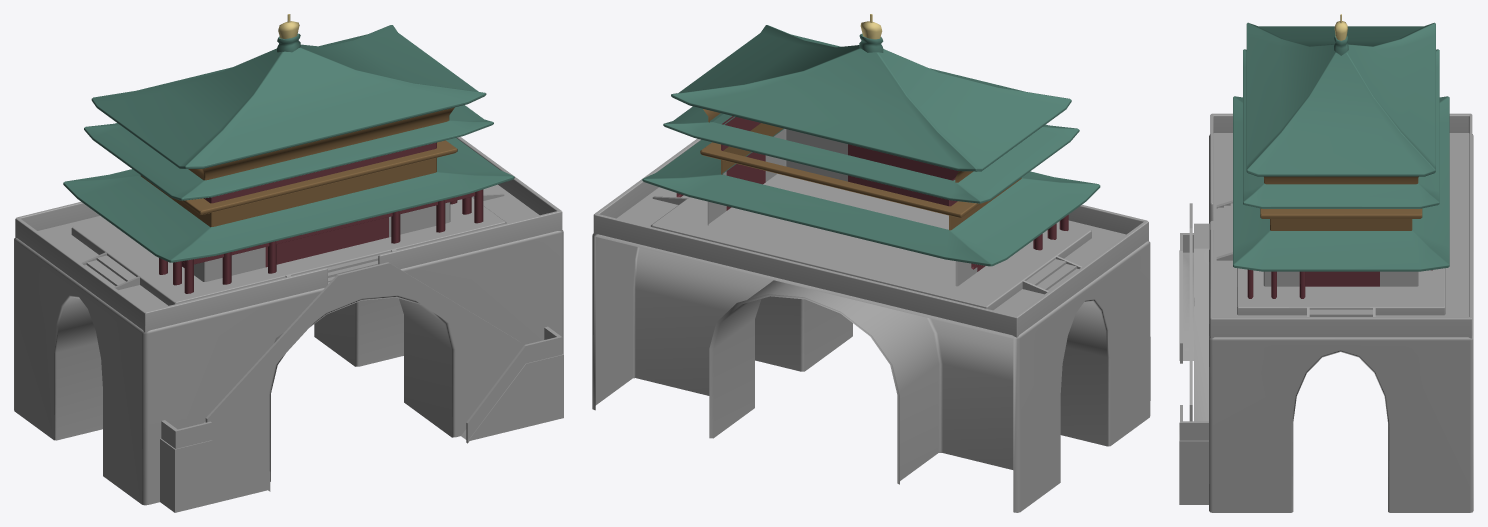
File: ZhongLou.fbx
The picture shows the model from 3 angles, left to right: view 1: azimuth 30°, elevation 25°; view 2: azimuth 150°, elevation 25°; view 3: azimuth 270°, elevation 25°; orthographic projection.
Parts seen in each view (by area): view 1: ZhongLou; view 2: ZhongLou; view 3: ZhongLou.
Part boxes in pixels (box(x1,y1,x2,y2)): ZhongLou: box(14, 14, 563, 512); ZhongLou: box(592, 14, 1150, 512); ZhongLou: box(1179, 14, 1473, 512).
Size of the model in its own units: 136 by 122 by 82.11.
